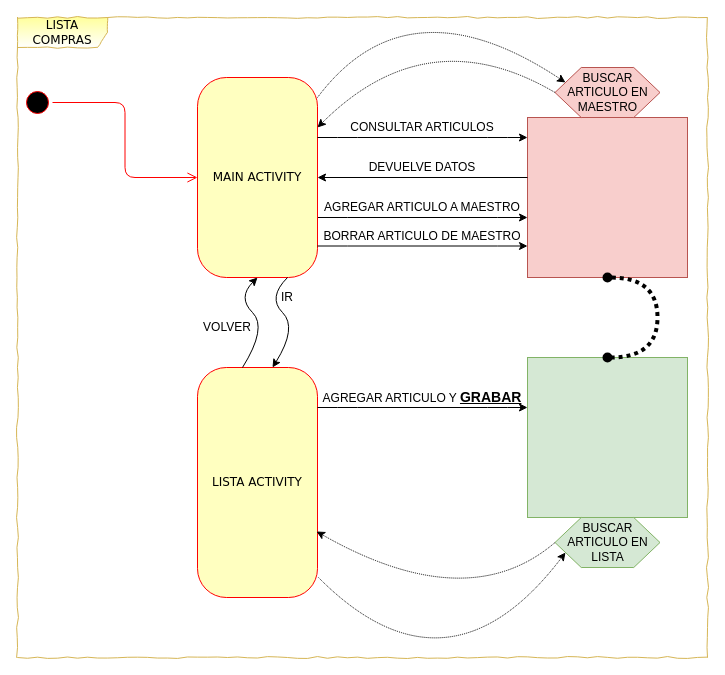
Image size: 725x675. Some labels were removed from this diagram. Each missing label, with the centre of its shape:
"LISTA COMPRA" goes at point (607, 437).
"MAESTRO ARTICULOS" goes at point (607, 197).
